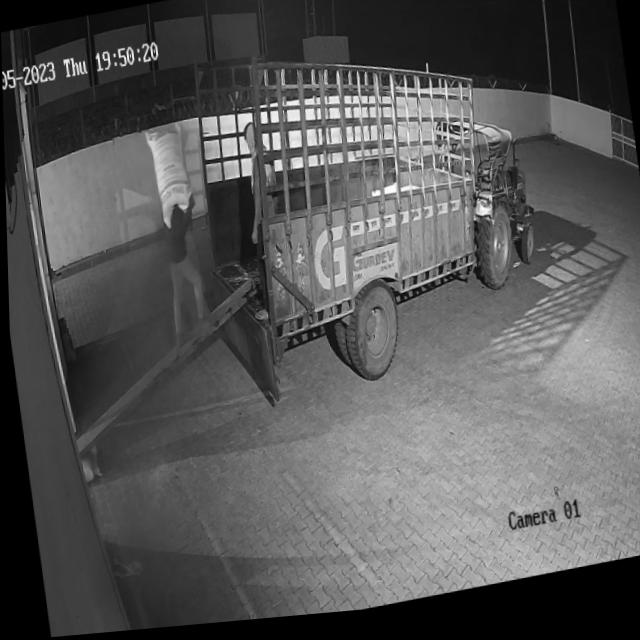sack: (143, 125, 193, 234)
